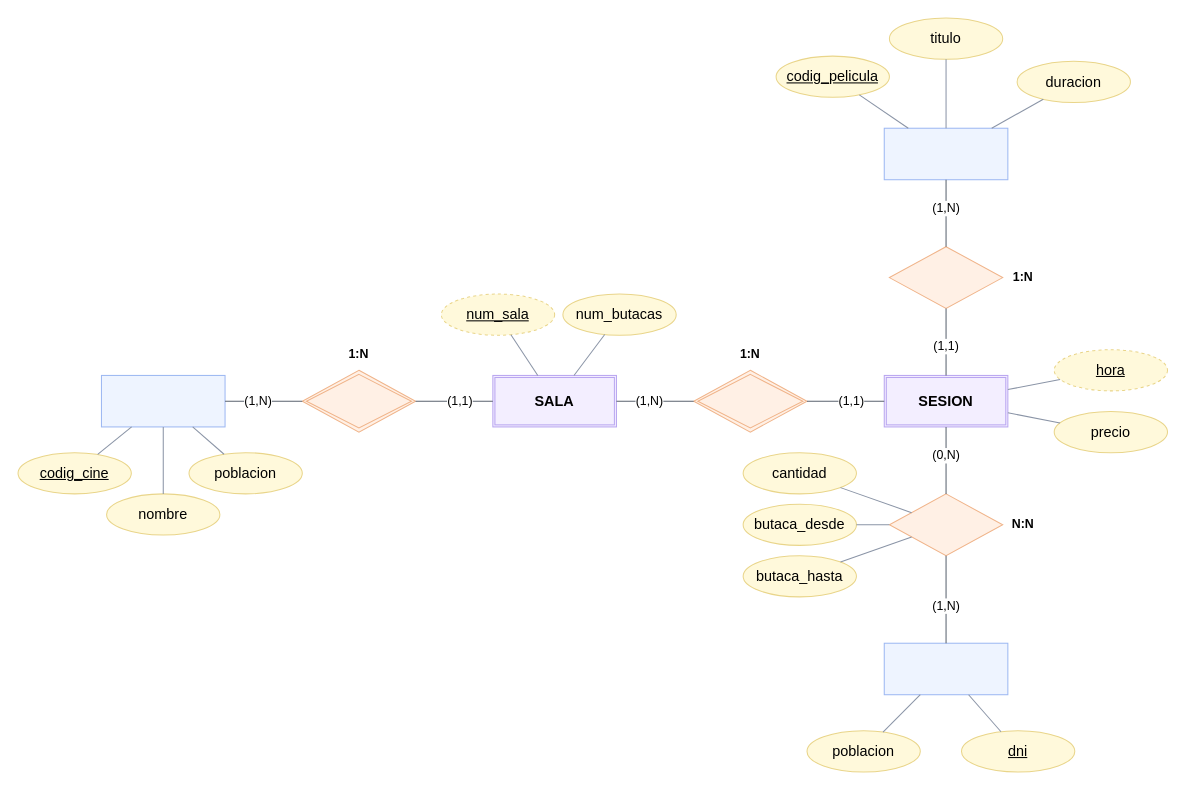
The diagram is 1186 pixels wide and 790 high, and some of its shapes have lost their labels. Here are the shapes that lost their labels. From the top down, the centre of each, then its label:
pixel 945 153: PELICULA
pixel 945 277: proyecta
pixel 162 400: CINE
pixel 358 400: tiene
pixel 750 400: se da en
pixel 945 524: compra
pixel 945 668: CLIENTE
